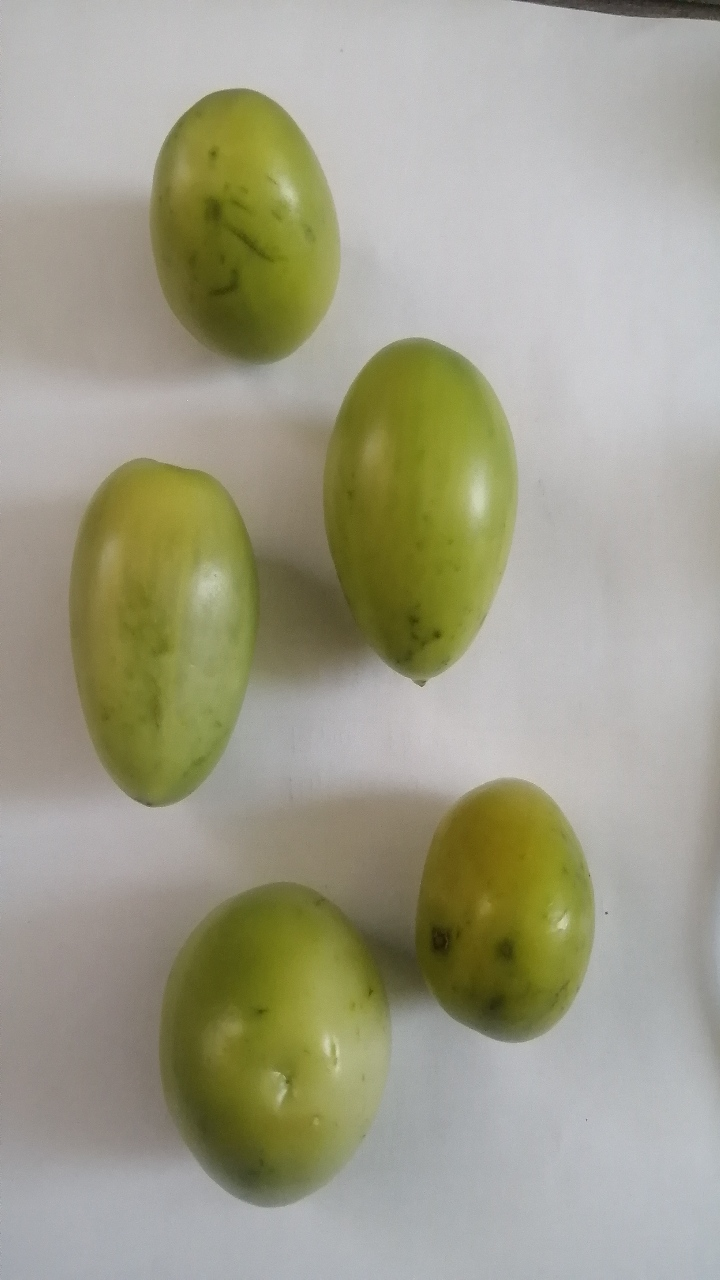tomateVerde: (129, 865, 408, 1240), (289, 325, 535, 719), (41, 426, 278, 834), (120, 59, 358, 385), (394, 755, 612, 1055)
